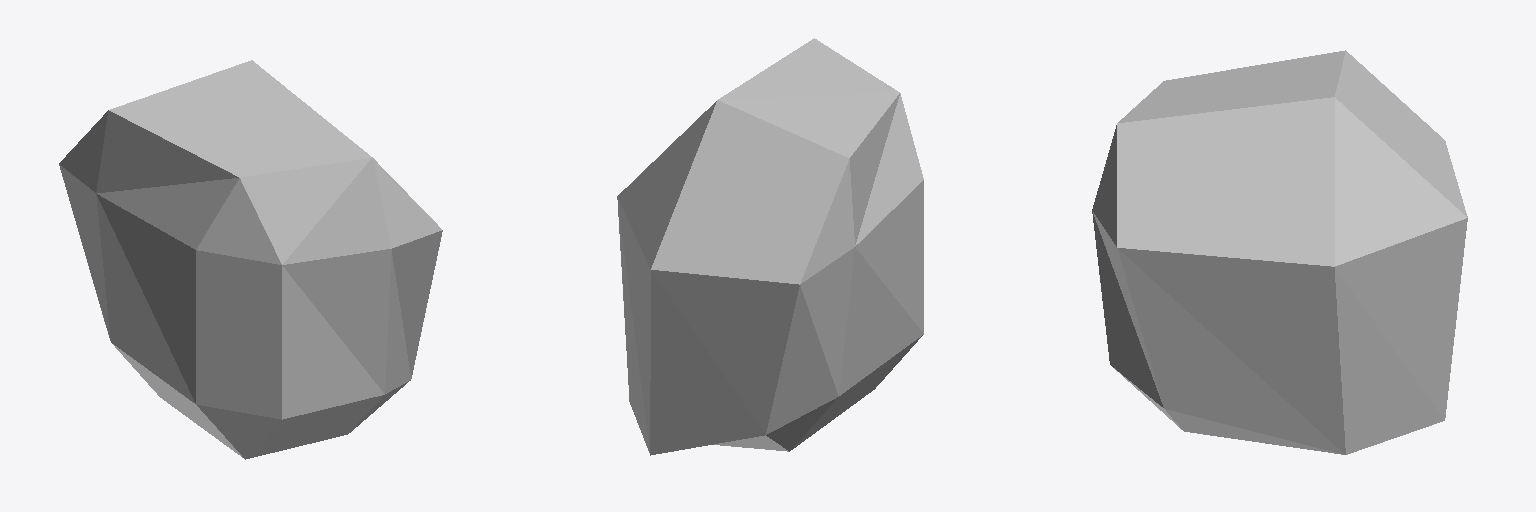
Rendered from RockSmall.obj.
The picture shows the model from 3 angles: view 1: azimuth 30°, elevation 25°; view 2: azimuth 150°, elevation 25°; view 3: azimuth 270°, elevation 25°; orthographic projection.
Parts seen in each view (by area): view 1: RockSmall_Cube.001; view 2: RockSmall_Cube.001; view 3: RockSmall_Cube.001.
Boxes of the visible parts, box(x1,y1,x2,y2) form: RockSmall_Cube.001: box(59, 60, 442, 459); RockSmall_Cube.001: box(617, 38, 923, 455); RockSmall_Cube.001: box(1092, 50, 1467, 454).
Bounding box in the file's own units: 1.79 × 2.36 × 2.36.